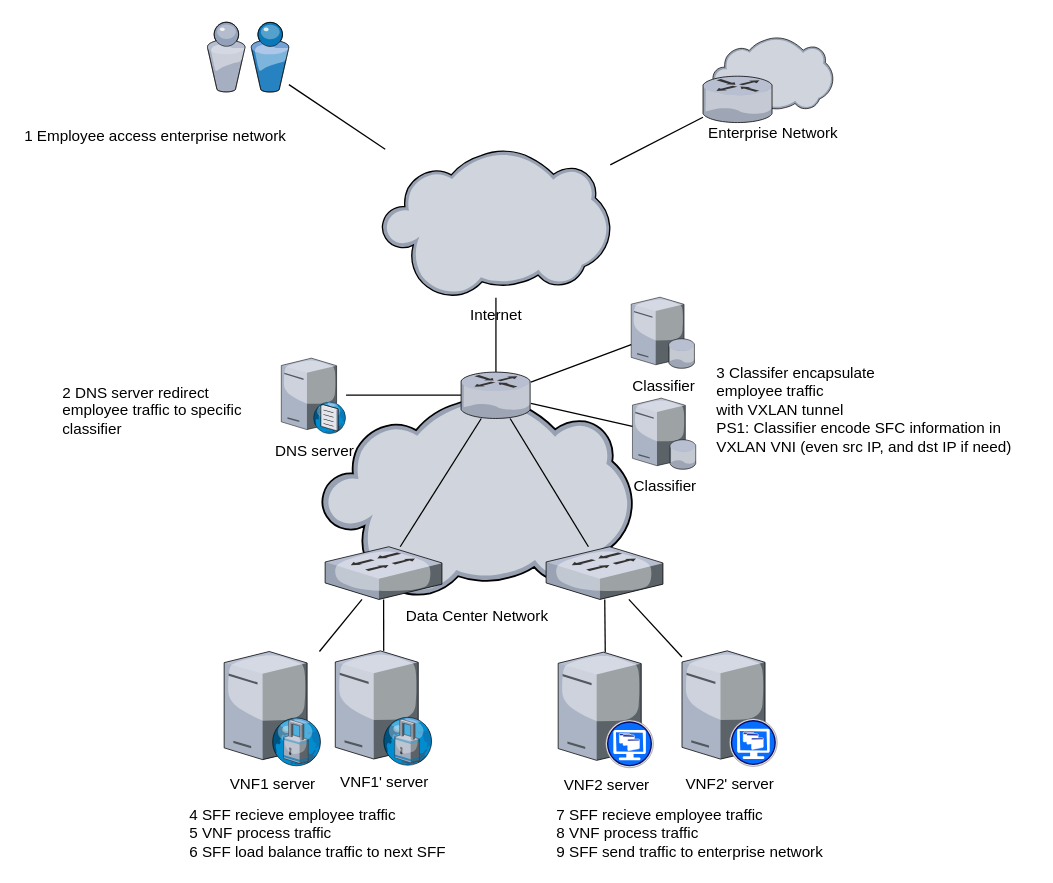
This 1053x883 diagram has some shape labels left out. The centre of each missing label's shape, as x and y in pixels:
DCN Gateway: pixel 495 394
Employee: pixel 247 56
